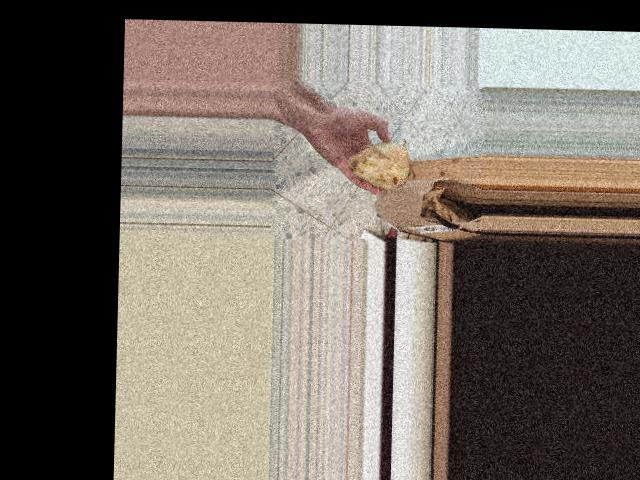onion: (342, 139, 417, 192)
